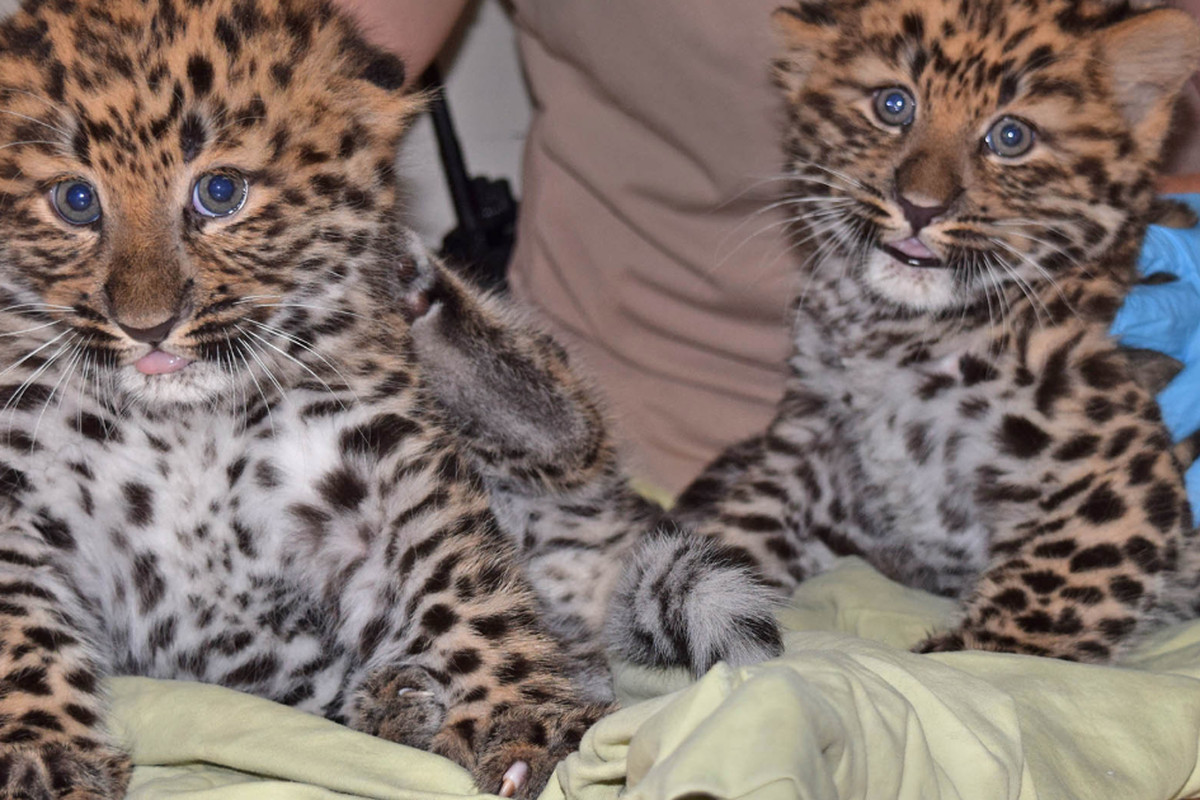amur_leopard: (6, 3, 461, 480), (738, 1, 1200, 386)
